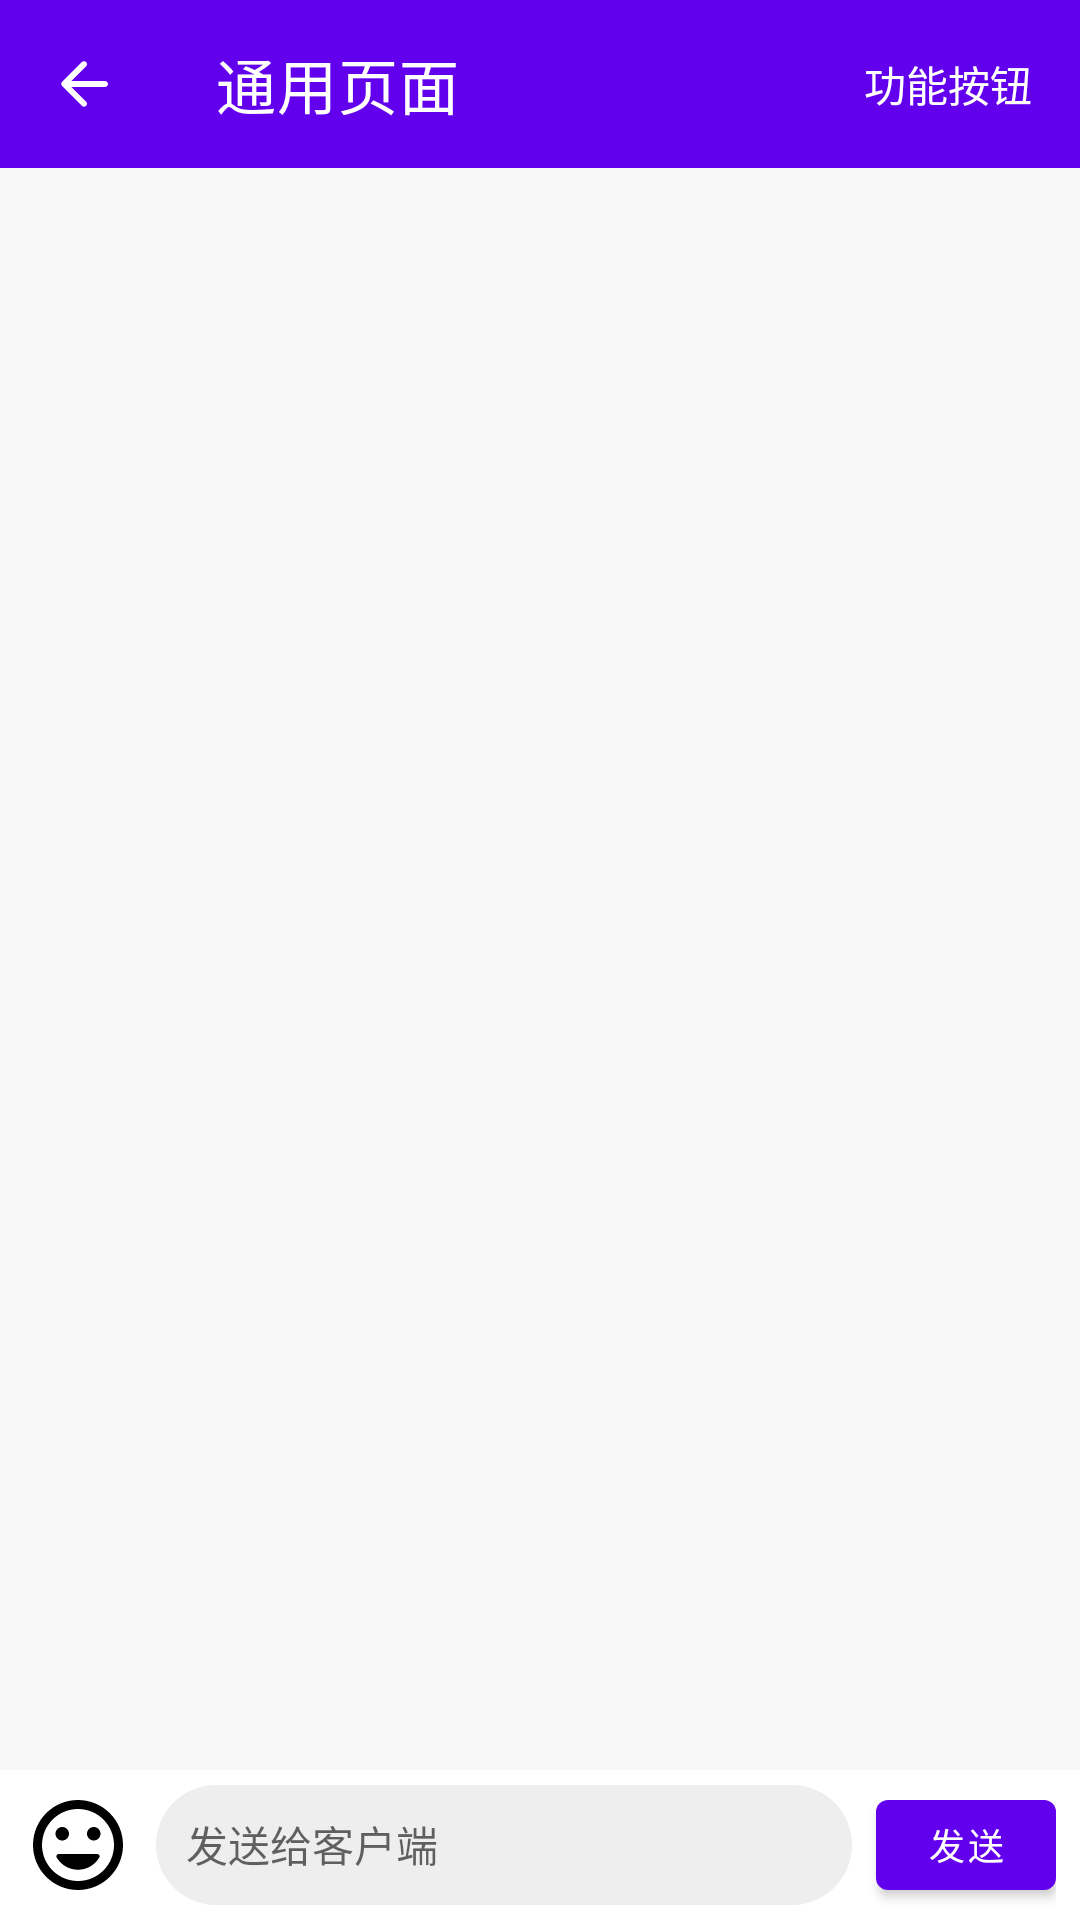

Icon click points for this 1080px×1920px phone screenshot, format (x,y):
emoji: (78,1845)
